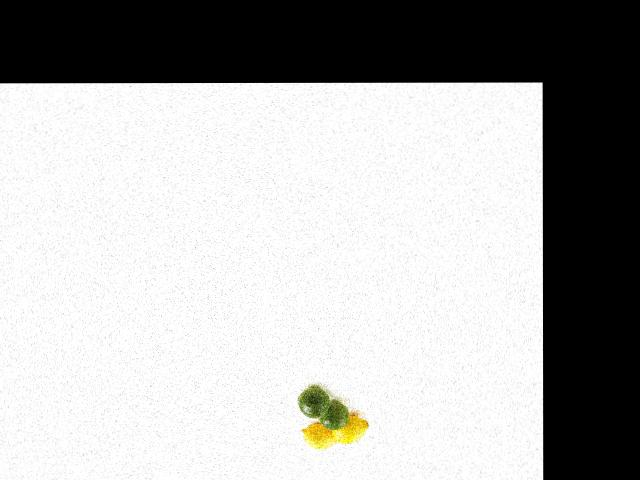lemon: (293, 387, 331, 419)
